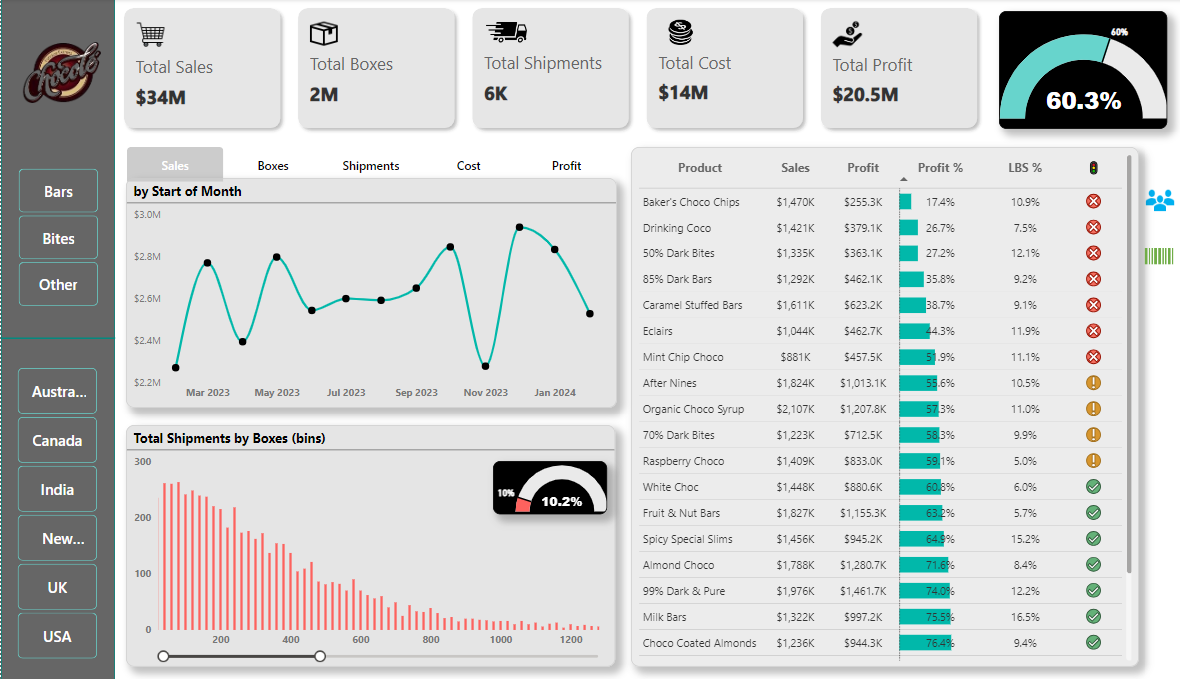

This screenshot's page, from the dashboard's own definition file:
{"tool":"powerbi","page":{"name":"Report","canvas":[1600,920],"ordinal":3},"visuals":[{"type":"shape","box":[0,0,153.8,920],"z":0},{"type":"cardVisual","fields":{"Data":["_Measures.Total Sales","_Measures.Total Boxes","_Measures.Total Shipments","_Measures.Total Cost","_Measures.Total Profit"]},"box":[154.4,0,1177.9,186.8],"z":1000},{"type":"gauge","fields":{"Y":["_Measures.Profit %"]},"box":[1346.5,16,227.1,158.7],"z":2000},{"type":"advancedSlicerVisual","fields":{"Values":["Measures Selector.Measures Selector"]},"box":[169.5,200,660.3,47.1],"z":3000},{"type":"lineChart","title":"by Start of Month","fields":{"Y":["_Measures.Total Sales"],"Category":["calendar.Start of Month"]},"box":[168.9,241.2,661.8,310.3],"z":4000},{"type":"columnChart","fields":{"Category":["shipments.Boxes (bins)"],"Y":["_Measures.Total Shipments"]},"box":[169.1,575,660.3,326.5],"z":5000},{"type":"gauge","fields":{"Y":["_Measures.Low Box Shipment %"]},"box":[663.2,623.5,154.4,72.1],"z":6000},{"type":"image","title":"People Logo","box":[1536.8,239.7,54.4,63.2],"z":8000},{"type":"tableEx","title":"Product Details","fields":{"Values":["products.Product","_Measures.Total Sales","_Measures.Total Profit","_Measures.Profit %","_Measures.Low Box Shipment %","_Measures.🚦"]},"box":[850,200,685.3,701.5],"z":9000},{"type":"image","title":"Product Logo","box":[1535.3,313.2,54.4,67.6],"z":10000},{"type":"advancedSlicerVisual","fields":{"Values":["products.Category"]},"box":[19.1,223.5,117.6,197.1],"z":11000},{"type":"image","box":[0,0,169.1,200],"z":12000},{"type":"shape","box":[0,364.7,154.4,186.8],"z":13000},{"type":"advancedSlicerVisual","fields":{"Values":["shipments.Geography"]},"box":[17.5,497.8,117.9,393],"z":14000}]}

Visuals, with their boxes on the page's 1600x920 design canvas (x1, y1, x2, y2). These are canvas units, not pixel positions in the 1180x679 screenshot, which may show the page scaled, cropped or inside an application window:
shape: x1=0, y1=0, x2=154, y2=920
cardVisual - _Measures.Total Sales x _Measures.Total Boxes: x1=154, y1=0, x2=1332, y2=187
gauge - _Measures.Profit %: x1=1346, y1=16, x2=1574, y2=175
advancedSlicerVisual - Measures Selector.Measures Selector: x1=170, y1=200, x2=830, y2=247
"by Start of Month" lineChart: x1=169, y1=241, x2=831, y2=552
columnChart - shipments.Boxes (bins) x _Measures.Total Shipments: x1=169, y1=575, x2=829, y2=902
gauge - _Measures.Low Box Shipment %: x1=663, y1=624, x2=818, y2=696
"People Logo" image: x1=1537, y1=240, x2=1591, y2=303
"Product Details" tableEx: x1=850, y1=200, x2=1535, y2=902
"Product Logo" image: x1=1535, y1=313, x2=1590, y2=381
advancedSlicerVisual - products.Category: x1=19, y1=224, x2=137, y2=421
image: x1=0, y1=0, x2=169, y2=200
shape: x1=0, y1=365, x2=154, y2=552
advancedSlicerVisual - shipments.Geography: x1=18, y1=498, x2=135, y2=891
